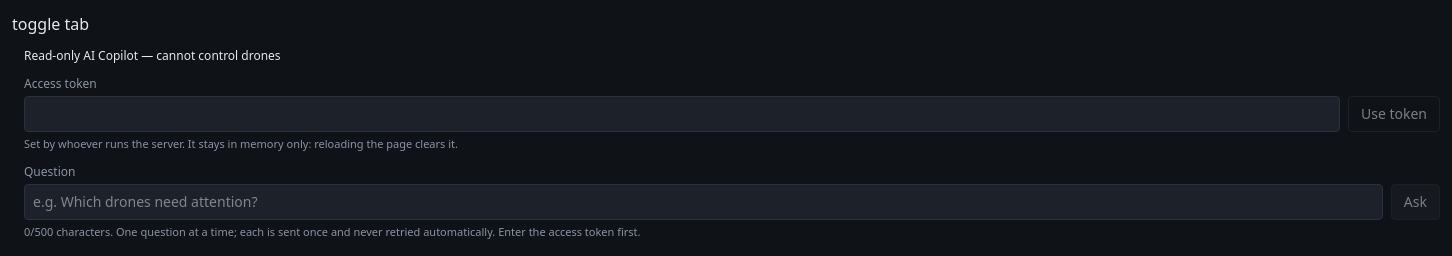
Test: Copilot tab: the access token › limits the question to 500 characters and counts them
Expected: the password field labelled "Access token" is shown, [24,96,1340,132]
Type "abc" into the field labelled "Question" at (703, 202), box [24,184,1383,220]
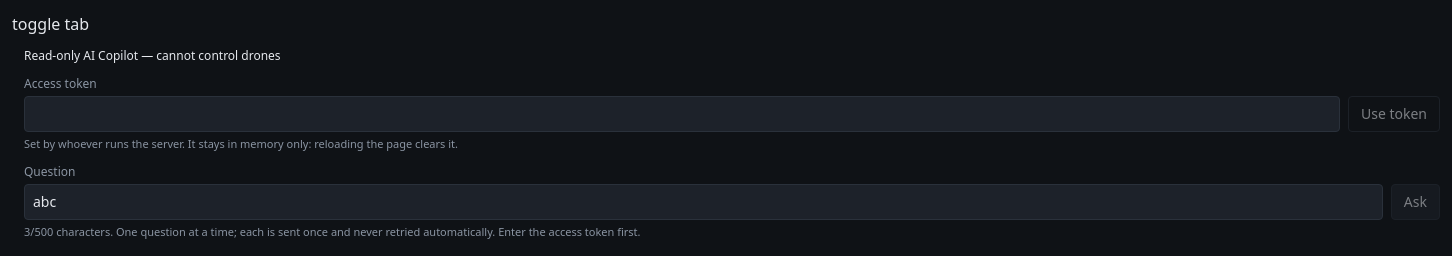
Now the text "3/500 characters" is shown, box [24,224,640,239]
